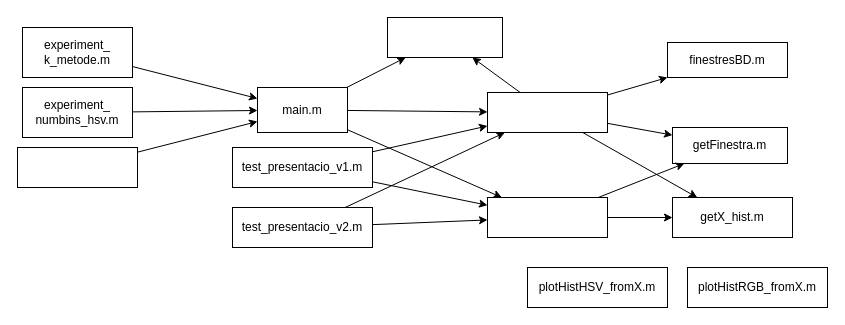
This 845x325 diagram has some shape labels left out. Each missing label, with the centre of its shape:
getFilename.m: the point at 444,37
predir_equip.m: the point at 547,217
test_informe.m: the point at 77,167
train.m: the point at 547,112
